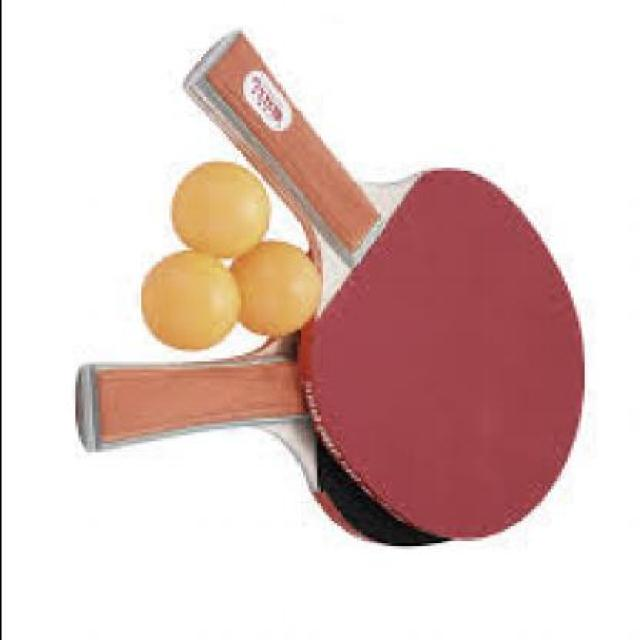table_tennis_racket: (297, 168, 590, 548)
